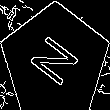N_SE: (24, 30, 86, 92)
